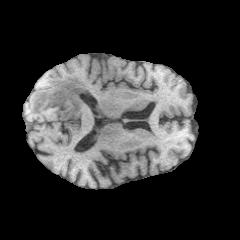glioma: (27, 75, 92, 120)
